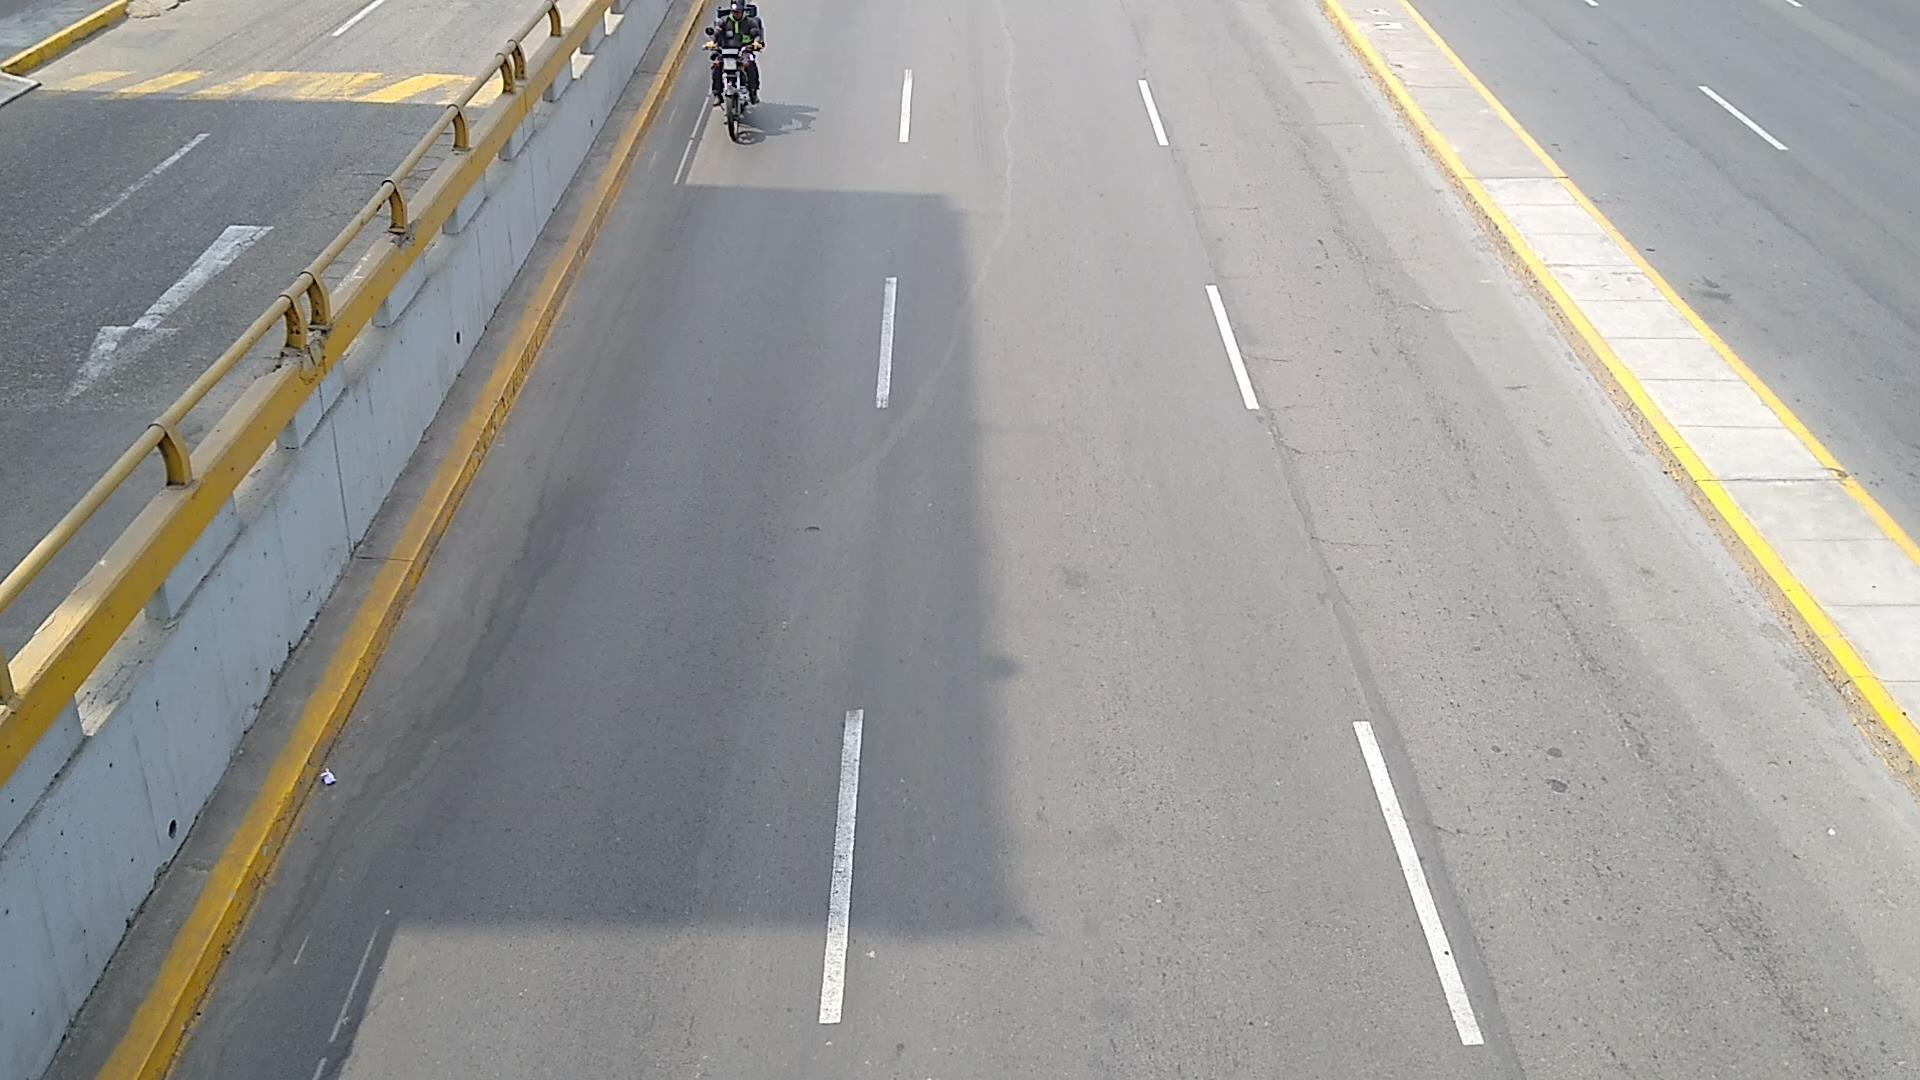motorcycle: (720, 49, 750, 142)
motorcyclist: (705, 0, 765, 105)
